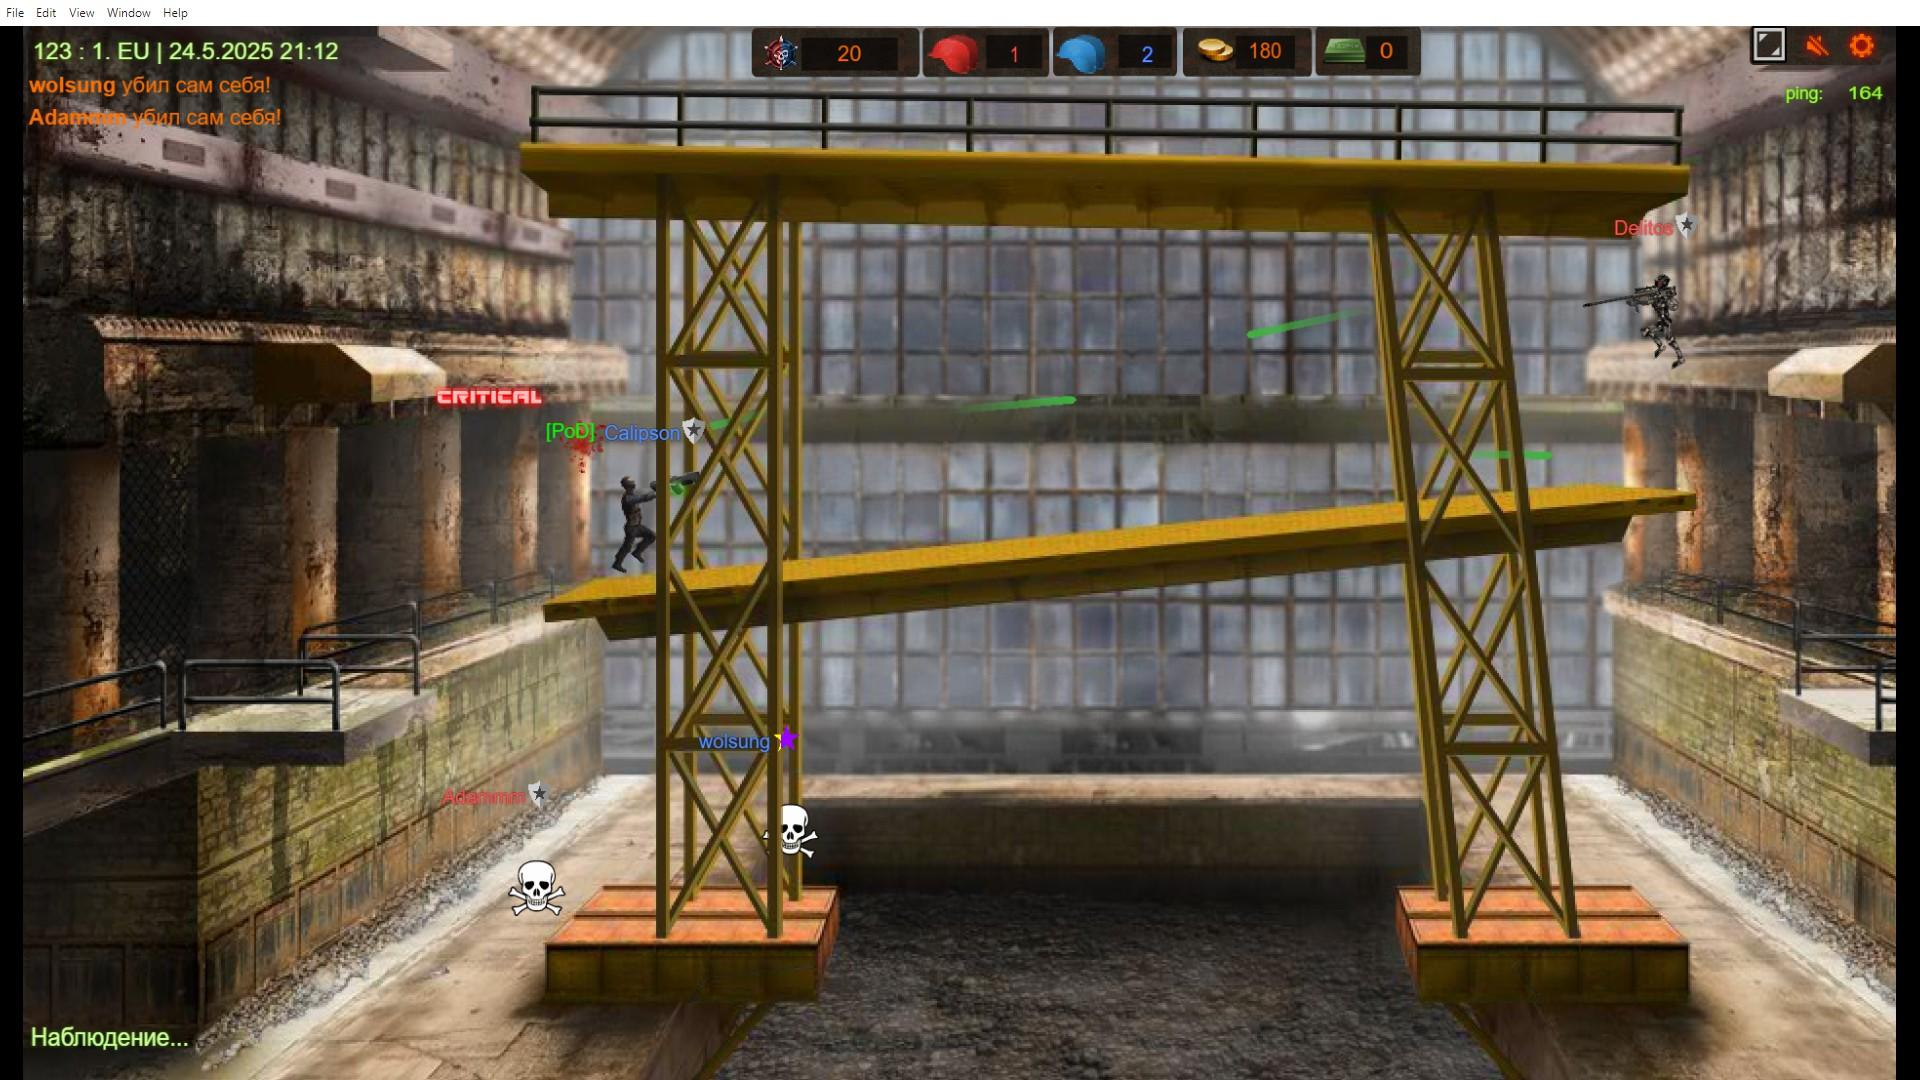enemy: (1650, 277, 1681, 364), (620, 476, 647, 568)
